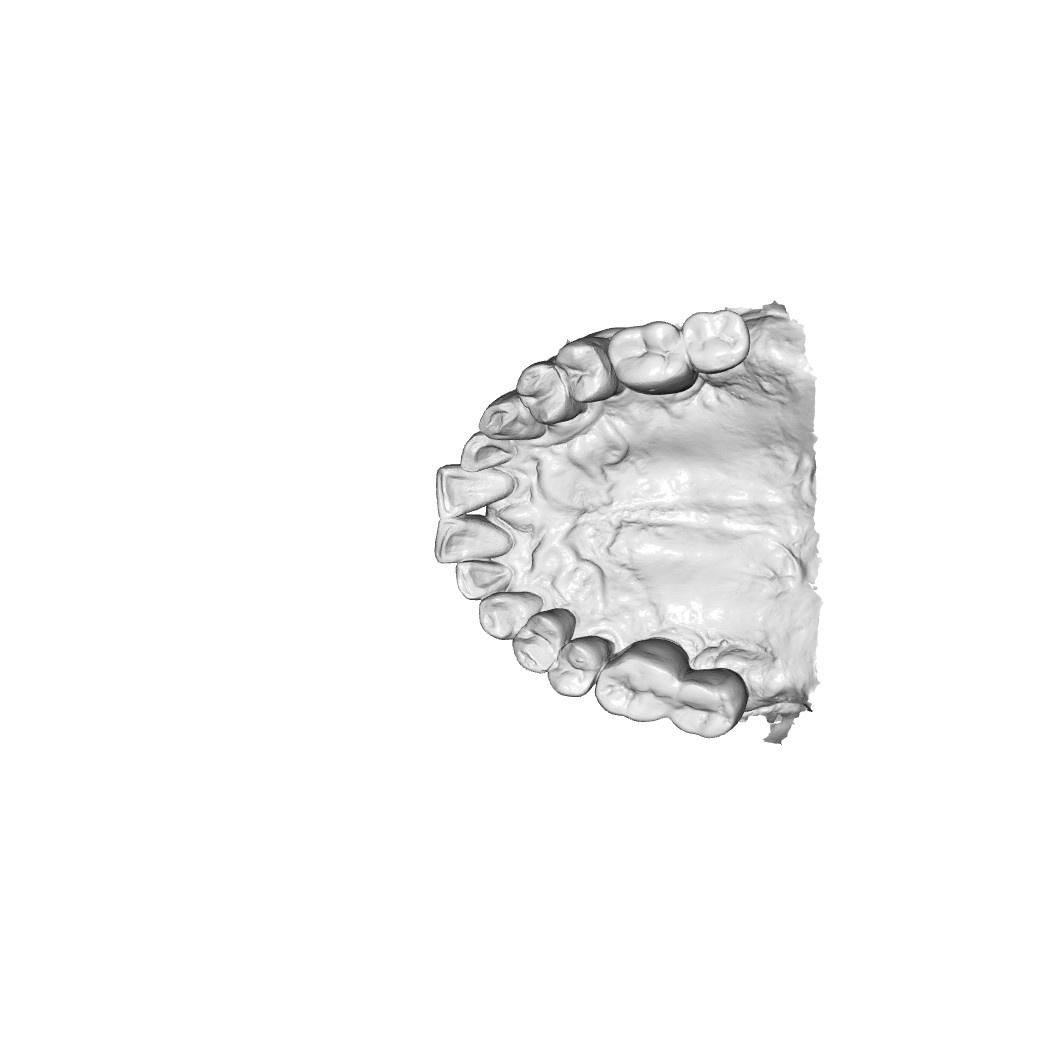canine: (480, 592, 551, 646), (478, 396, 546, 437)
incisor: (432, 514, 507, 569), (450, 557, 521, 609), (438, 467, 514, 513), (459, 428, 514, 470)
molar: (668, 669, 745, 739), (595, 651, 675, 718), (604, 322, 682, 385), (683, 311, 747, 368)
premolar: (515, 365, 573, 425), (560, 338, 605, 397), (549, 642, 597, 694), (515, 619, 558, 667)
